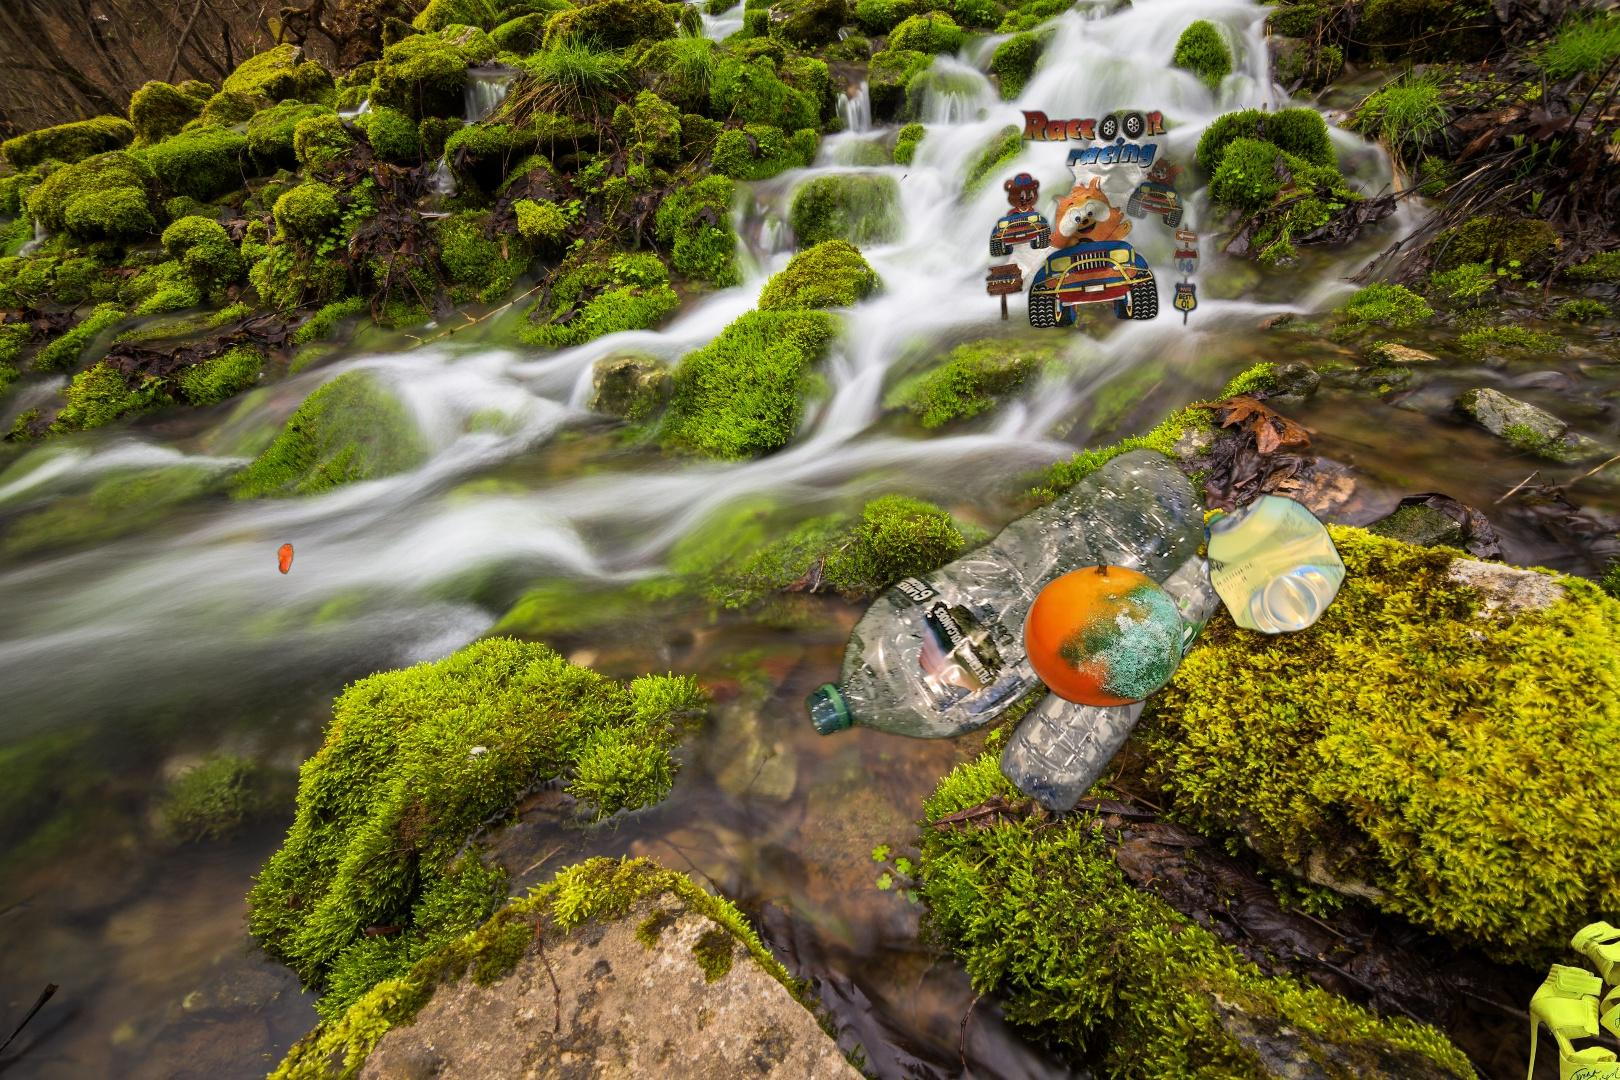biological: (121, 423, 297, 589), (1020, 560, 1187, 710)
clothes: (979, 105, 1240, 335)
metal-cans: (1202, 488, 1350, 641)
plastic-bottles: (994, 506, 1440, 1012), (802, 442, 1204, 746)
shoes: (1522, 920, 1620, 1080)
